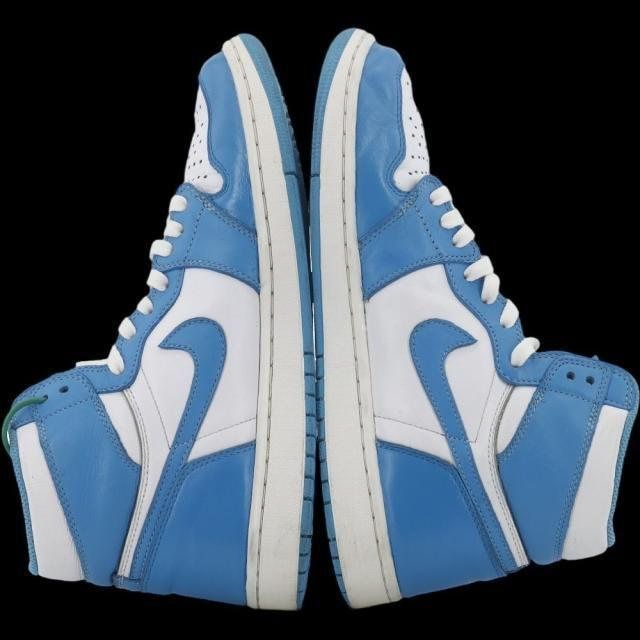nike original jordan 1: (3, 3, 322, 640), (313, 5, 640, 624)
